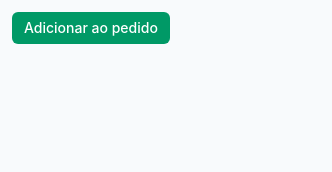
Test: AddToOrderButton › cada clique soma de novo (a contagem vem do servidor)
Click the button with aria-label "Adicionar CAM-01 ao pedido": point(91, 28) 12,12 -> 170,44
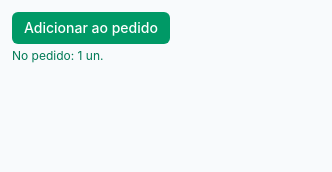
Check: the message reads "No pedido: 1 un.", box 12,48 -> 104,63
Click the button with aria-label "Adicionar CAM-01 ao pedido": point(91, 28) 12,12 -> 170,44
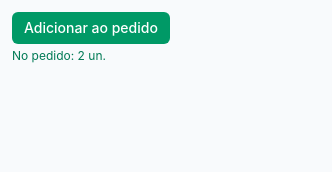
Check: the message reads "No pedido: 2 un.", box 12,48 -> 106,63
